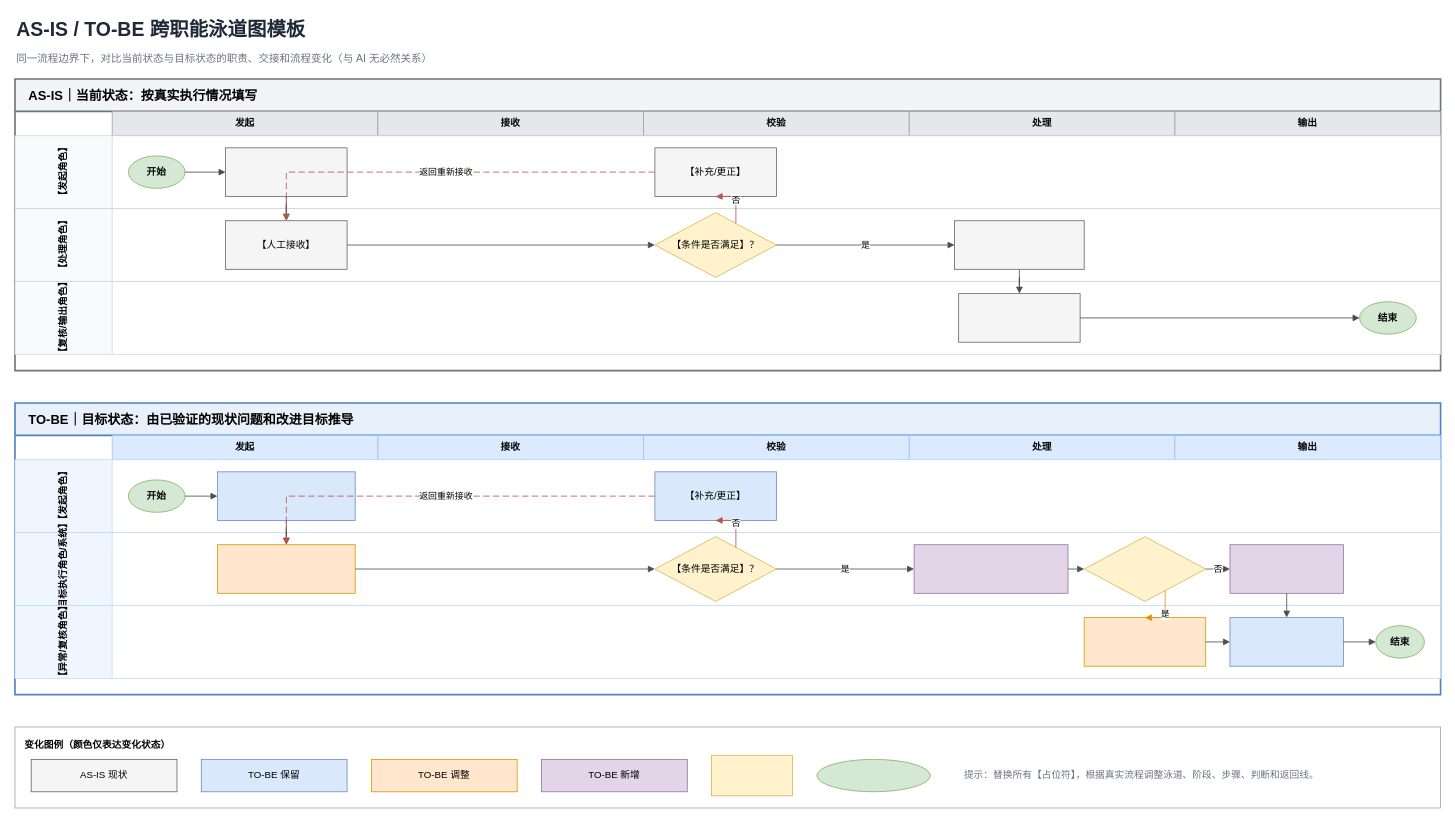
The diagram is 1455 pixels wide and 822 high, and some of its shapes have lost their labels. Here are the shapes that lost their labels. From the top down, the centre of each, then its label:
At point 286,171: "【提交/发起】".
At point 1019,244: "【当前处理步骤】".
At point 1019,317: "【复核/确认】".
At point 286,495: "【保留的发起步骤】".
At point 286,568: "【重新设计的接收步骤】".
At point 990,568: "【新增/改进的处理步骤】".
At point 1144,568: "【是否需要异常处理】？".
At point 1286,568: "【自动完成】".
At point 1144,641: "【异常处理/复核】".
At point 1286,641: "【结果输出】".
At point 752,775: "判断（使用菱形）".
At point 873,775: "开始/结束".
